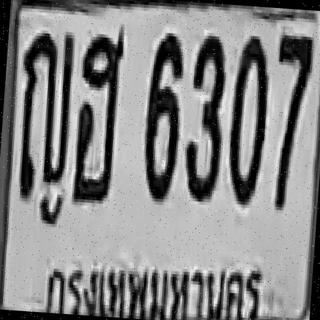A13: (13, 27, 75, 199), (15, 29, 75, 174), (14, 61, 73, 201)
A44: (70, 28, 124, 203)
N00: (224, 31, 272, 202)
N03: (182, 32, 227, 200)
N06: (139, 29, 185, 202)
N07: (268, 32, 314, 197), (272, 32, 314, 149), (273, 33, 313, 133)
P04: (41, 250, 272, 320)
